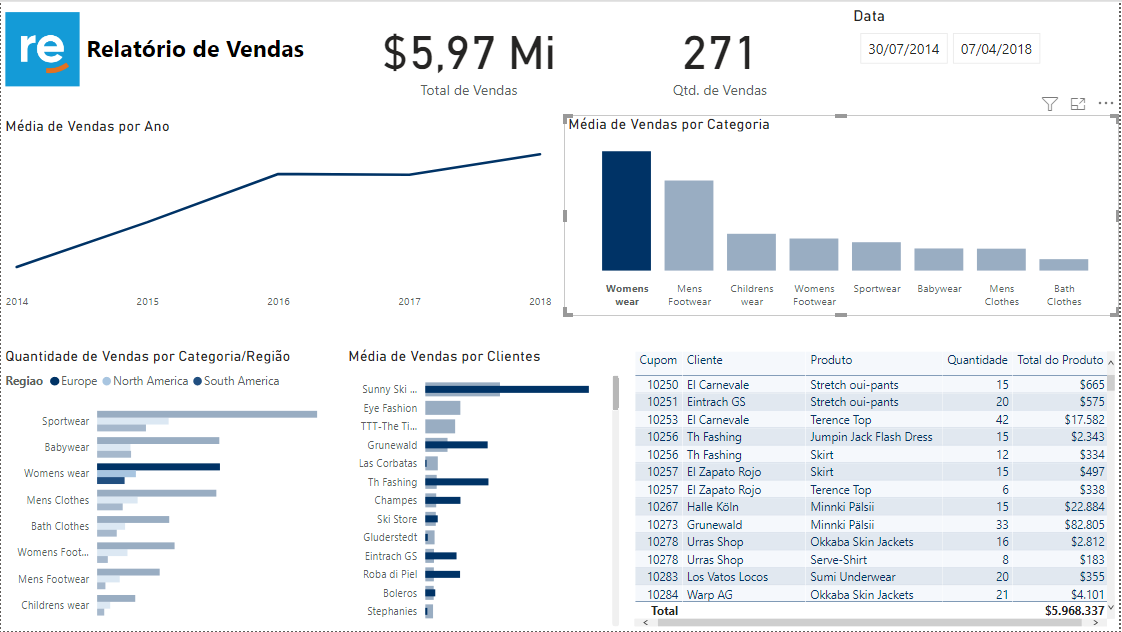

What the dashboard file says about the page in this screenshot:
{"tool":"powerbi","page":{"name":"Dashboard","canvas":[1280,720],"ordinal":0},"visuals":[{"type":"clusteredBarChart","title":"Média de Vendas por Clientes","fields":{"Category":["dataset_final.Cliente"],"Y":["Avg(dataset_final.totalProduto)"]},"box":[392.5,395.4,320.3,324.6],"z":0},{"type":"lineChart","title":"Média de Vendas por Ano","fields":{"Category":["dataset_final.Data.Variation.Hierarquia de datas.Ano"],"Y":["Avg(dataset_final.totalProduto)"]},"box":[0,131.3,635,229],"z":1000},{"type":"clusteredBarChart","title":"Quantidade de Vendas por Categoria/Região","fields":{"Y":["CountNonNull(dataset_final.CupomID)"],"Category":["dataset_final.Categoria"],"Series":["dataset_final.Regiao"]},"box":[0,395.4,388.1,324.6],"z":2000},{"type":"clusteredColumnChart","title":"Média de Vendas por Categoria","fields":{"Y":["Avg(dataset_final.totalProduto)"],"Category":["dataset_final.Categoria"]},"box":[645,129.9,634.9,229.4],"z":3000},{"type":"card","fields":{"Values":["Sum(dataset_final.totalProduto)"]},"box":[404,4.3,262.6,114],"z":4000},{"type":"card","fields":{"Values":["Count(dataset_final.CupomID)"]},"box":[691.1,4.3,262.6,114],"z":5000},{"type":"slicer","title":"Data","fields":{"Values":["dataset_final.Data"]},"box":[971.1,4.3,288.6,114],"z":6000},{"type":"tableEx","fields":{"Values":["dataset_final.CupomID","dataset_final.Cliente","dataset_final.Produto","dataset_final.Quantidade","Sum(dataset_final.totalProduto)"]},"box":[720,395.4,559.8,324.6],"z":7000},{"type":"image","box":[0,4.6,95,98.4],"z":7001},{"type":"textbox","box":[92.7,28.6,299.9,49.2],"z":7002}]}

Visuals, with their boxes in screenshot pixels (x1, y1, x2, y2), scaled from the page's 1280x720 canvas onto the 1122x632 screenshot:
"Média de Vendas por Clientes" clusteredBarChart: bbox=[344, 347, 625, 631]
"Média de Vendas por Ano" lineChart: bbox=[0, 115, 557, 316]
"Quantidade de Vendas por Categoria/Região" clusteredBarChart: bbox=[0, 347, 340, 631]
"Média de Vendas por Categoria" clusteredColumnChart: bbox=[565, 114, 1121, 315]
card - Sum(dataset_final.totalProduto): bbox=[354, 4, 584, 104]
card - Count(dataset_final.CupomID): bbox=[606, 4, 836, 104]
"Data" slicer: bbox=[851, 4, 1104, 104]
tableEx - dataset_final.CupomID x dataset_final.Cliente: bbox=[631, 347, 1121, 631]
image: bbox=[0, 4, 83, 90]
textbox: bbox=[81, 25, 344, 68]
